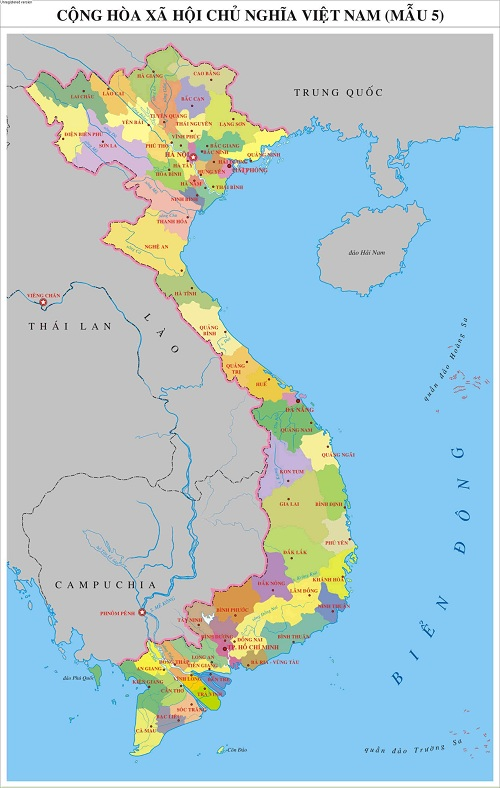Island: (361, 705, 489, 775), (421, 317, 490, 410)
